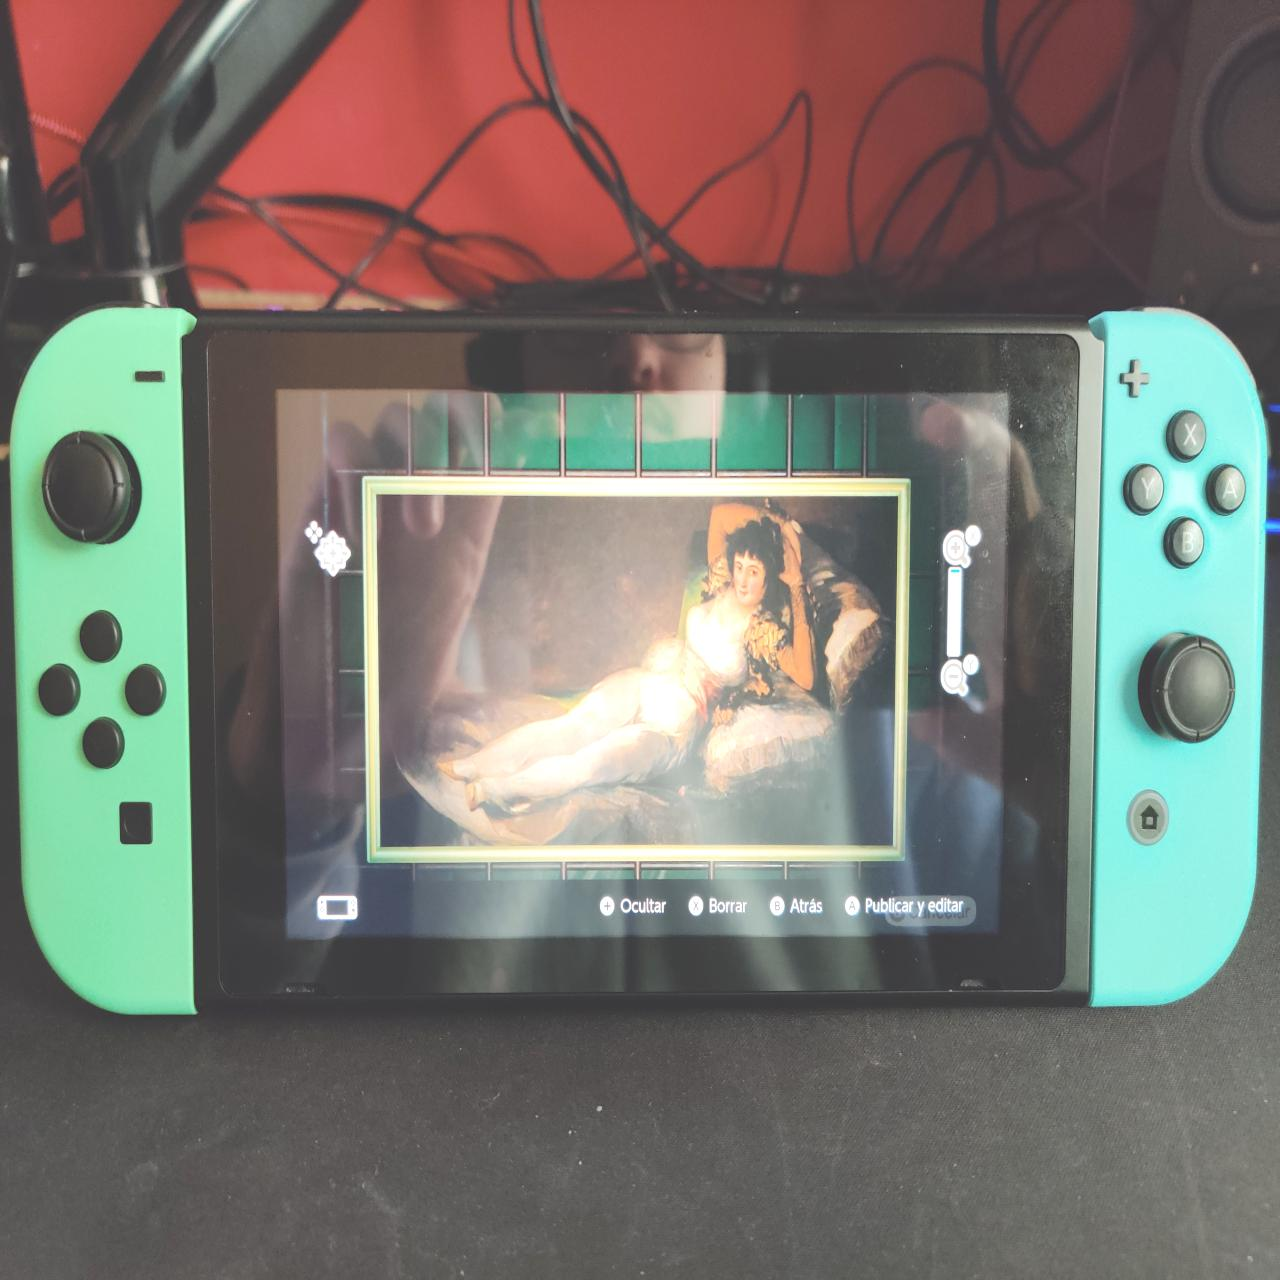ClothedMaja: (382, 496, 894, 850)
